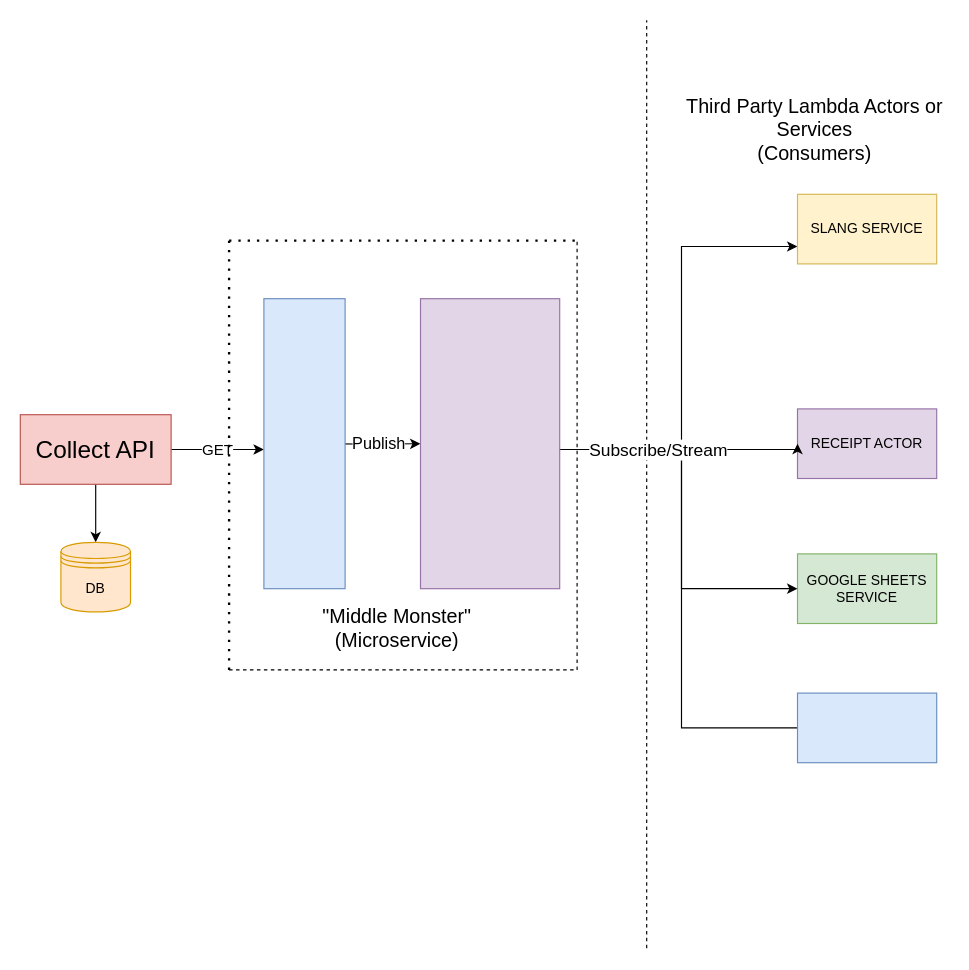
The diagram is 969 pixels wide and 970 high, and some of its shapes have lost their labels. Each missing label, with the centre of its shape:
Income Actor: (866,727)
KAFKA BROKER: (489,443)
Producer: (304,443)
